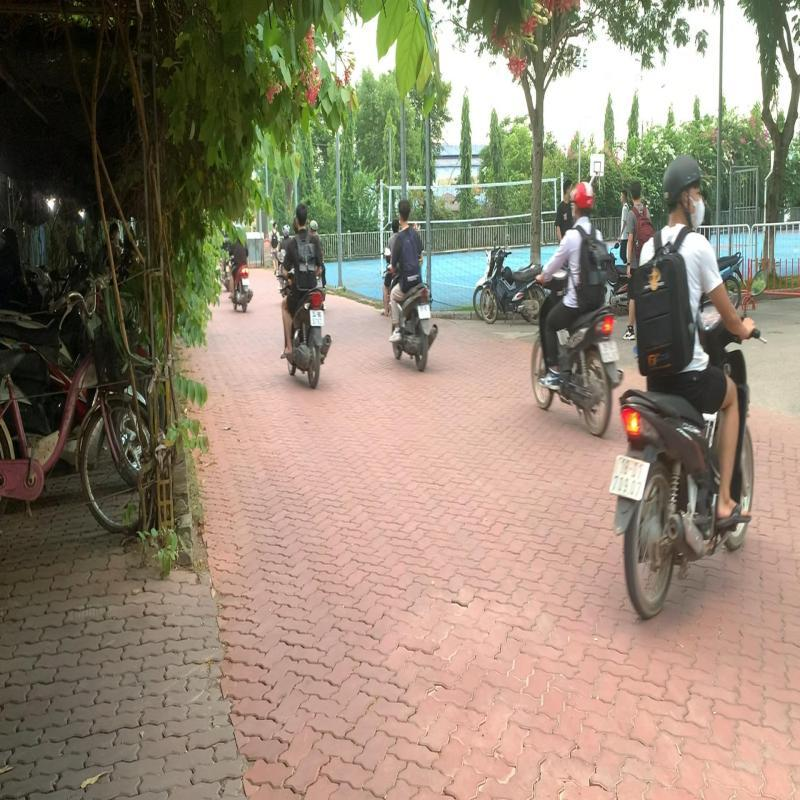nohelmet: (294, 202, 308, 228), (398, 197, 411, 222)
